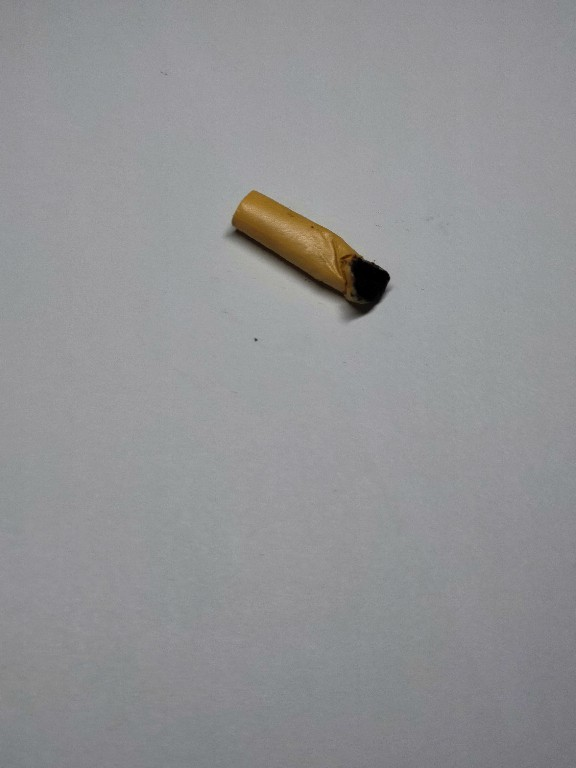cigarette: (224, 177, 394, 326)
